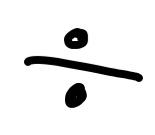div: (22, 26, 143, 106)
